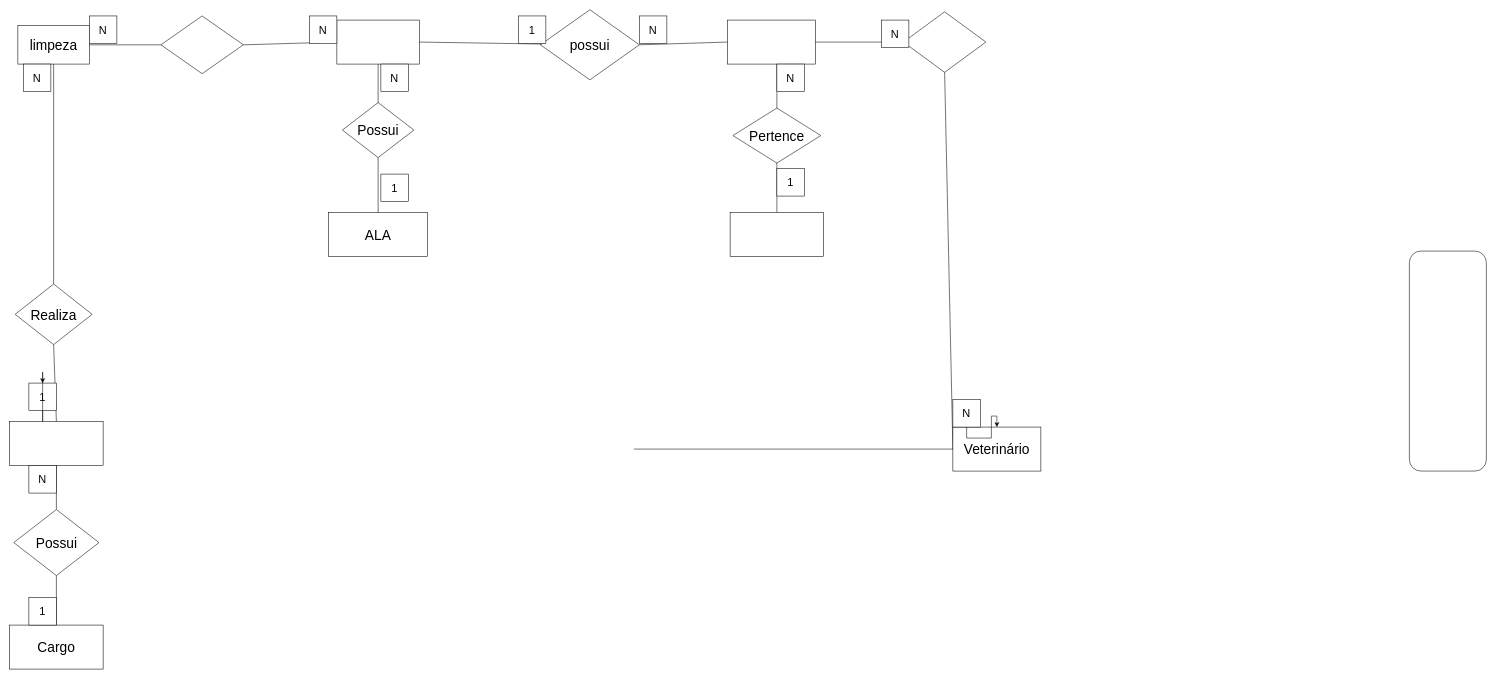
Some shapes in this 1496 by 679 pixel diagram are drawn without their labels. Each missing label, with the centre of its shape:
"Animal" belongs at [771,42].
"CLASSE" belongs at [777,234].
"Consulta" belongs at [944,41].
"Container" belongs at [377,42].
"Funcionario" belongs at [56,443].
"Limpar" belongs at [201,44].
